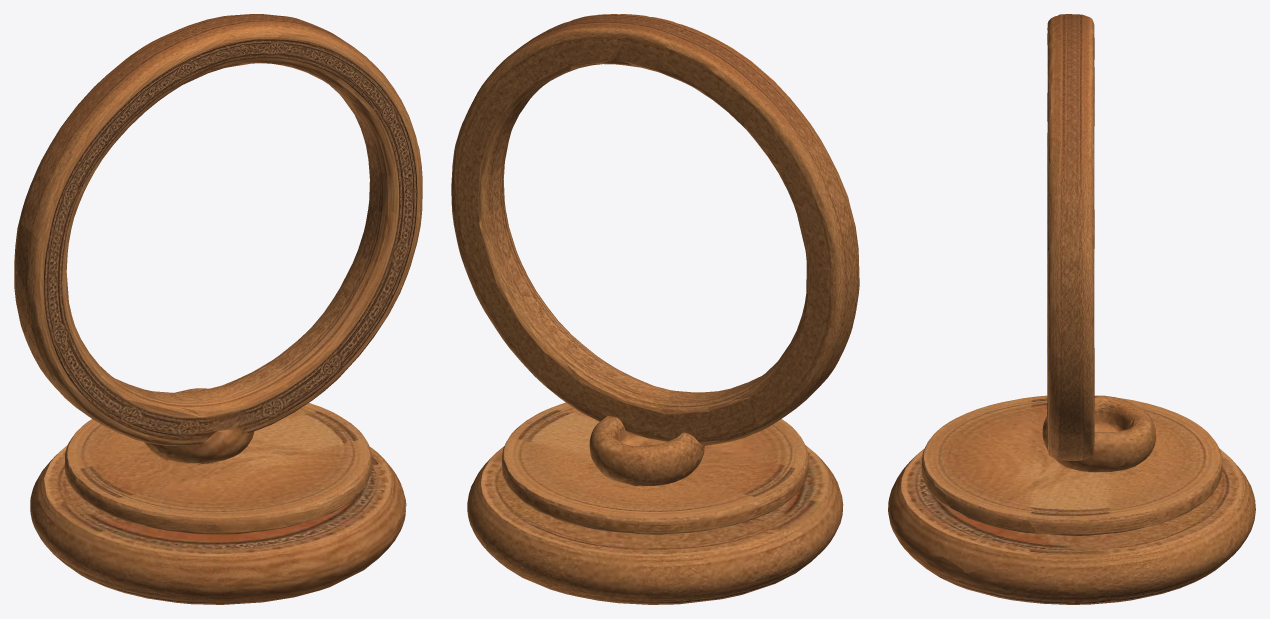
Rendered from stand.glb.
The picture shows the model from 3 angles, left to right: view 1: azimuth 30°, elevation 25°; view 2: azimuth 150°, elevation 25°; view 3: azimuth 270°, elevation 25°; orthographic projection. The views are drawn at different scales.
Visible parts, largest first — view 1: mesh_node; view 2: mesh_node; view 3: mesh_node.
Part boxes in pixels (bbox=[...]): mesh_node: bbox=[14, 14, 422, 604]; mesh_node: bbox=[451, 14, 859, 604]; mesh_node: bbox=[888, 14, 1255, 604].
Size of the model in its own units: 1.54 by 1.9 by 1.27.
1 material, 1 textured.
